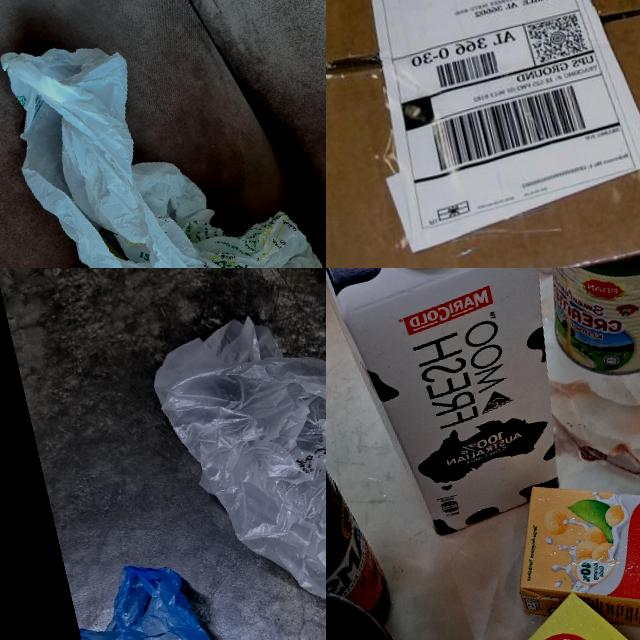caixinha: (326, 268, 592, 553), (495, 437, 640, 640), (475, 565, 640, 640)
garrafa de vidro: (326, 366, 392, 640)
lata: (517, 268, 640, 387)
papelão: (326, 0, 640, 268)
sacola plástica: (0, 0, 326, 268), (136, 268, 326, 640), (67, 550, 265, 640)
